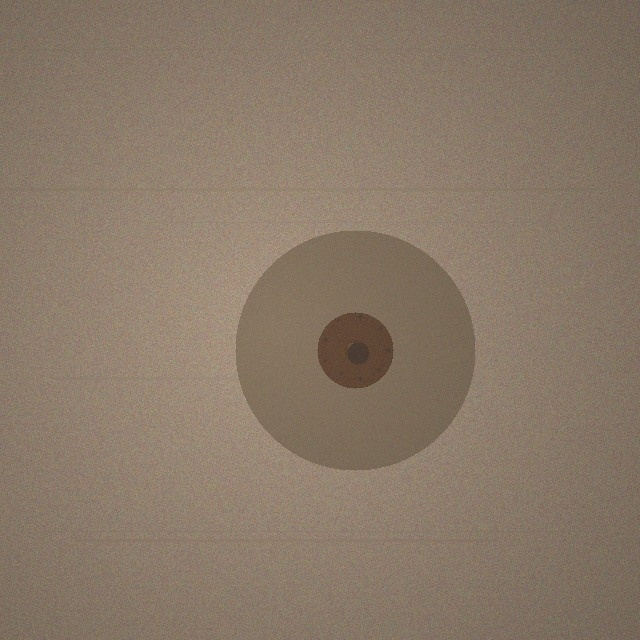cold_weld: (235, 230, 475, 470)
